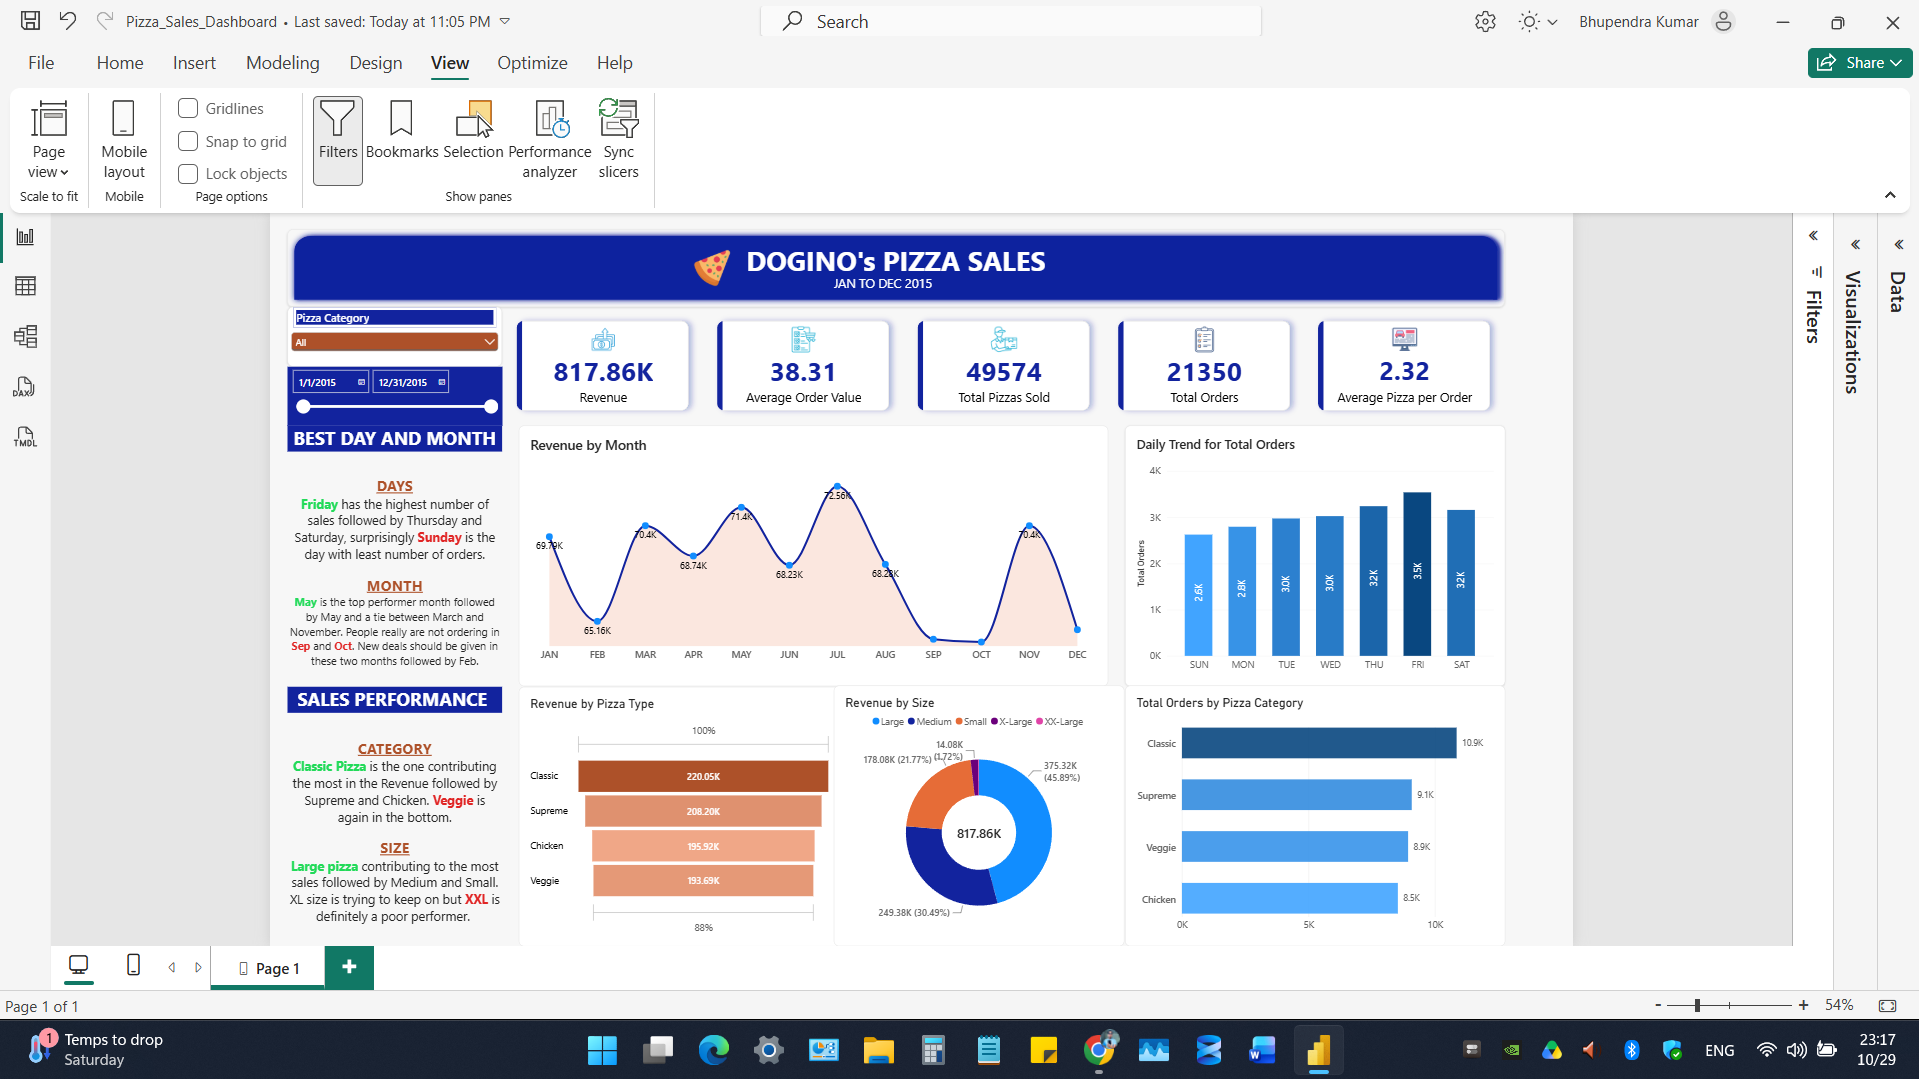

What the dashboard file says about the page in this screenshot:
{"tool":"powerbi","page":{"name":"Page 1","canvas":[1920,1080],"ordinal":0},"visuals":[{"type":"shape","box":[26.8,24.7,1790.7,113.2],"z":0},{"type":"cardVisual","fields":{"Data":["pizza_sales.Revenue","pizza_sales.Average Order Value","pizza_sales.Total Pizzas Sold","pizza_sales.Total_orders","pizza_sales.Average Pizza per Order"]},"box":[341.7,137.9,1475.8,175],"z":1000},{"type":"textbox","box":[830,90,154,38],"z":2000},{"type":"image","box":[491.9,53.5,319,55.6],"z":3000},{"type":"columnChart","title":"Daily Trend for Total Orders","fields":{"Category":["pizza_sales.Day"],"Y":["pizza_sales.Total Orders"]},"box":[1258,312,560,384],"z":4000},{"type":"stackedAreaChart","title":"Revenue by Month","fields":{"Category":["pizza_sales.Month Order"],"Y":["pizza_sales.Revenue"]},"box":[366,312,868,384],"z":5000},{"type":"funnel","title":"Revenue by Pizza Type","fields":{"Category":["pizza_sales.pizza_category"],"Y":["pizza_sales.Revenue"]},"box":[366,698,478,382],"z":6000},{"type":"donutChart","title":"Revenue by Size","fields":{"Category":["pizza_sales.pizza_size"],"Y":["pizza_sales.Revenue"]},"box":[830,696,428,384],"z":7000},{"type":"barChart","title":"Total Orders by Pizza Category","fields":{"Category":["pizza_sales.pizza_category"],"Y":["pizza_sales.Total Orders"]},"box":[1258,696,560,384],"z":8000},{"type":"textbox","box":[26,698,316,38],"z":9000},{"type":"textbox","box":[26,312,316,38],"z":10000},{"type":"textbox","box":[26,736,316,344],"z":11000},{"type":"textbox","box":[26,350,316,346],"z":12000},{"type":"slicer","fields":{"Values":["pizza_sales.pizza_category"]},"box":[26,138,316,88],"z":13000},{"type":"slicer","fields":{"Values":["pizza_sales.order_date"]},"box":[26,226,316,86],"z":14000}]}

Visuals, with their boxes on the page's 1920x1080 design canvas (x1, y1, x2, y2). These are canvas units, not pixel positions in the 1919x1079 screenshot, which may show the page scaled, cropped or inside an application window:
shape: bbox(27, 25, 1818, 138)
cardVisual - pizza_sales.Revenue x pizza_sales.Average Order Value: bbox(342, 138, 1818, 313)
textbox: bbox(830, 90, 984, 128)
image: bbox(492, 54, 811, 109)
"Daily Trend for Total Orders" columnChart: bbox(1258, 312, 1818, 696)
"Revenue by Month" stackedAreaChart: bbox(366, 312, 1234, 696)
"Revenue by Pizza Type" funnel: bbox(366, 698, 844, 1080)
"Revenue by Size" donutChart: bbox(830, 696, 1258, 1080)
"Total Orders by Pizza Category" barChart: bbox(1258, 696, 1818, 1080)
textbox: bbox(26, 698, 342, 736)
textbox: bbox(26, 312, 342, 350)
textbox: bbox(26, 736, 342, 1080)
textbox: bbox(26, 350, 342, 696)
slicer - pizza_sales.pizza_category: bbox(26, 138, 342, 226)
slicer - pizza_sales.order_date: bbox(26, 226, 342, 312)
